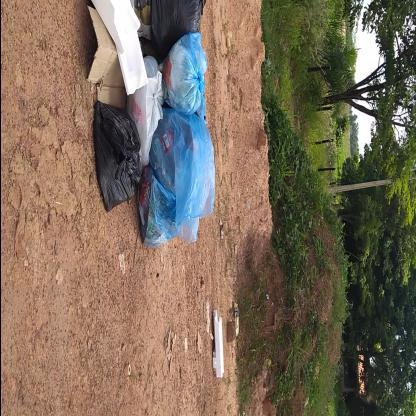lixo: (90, 0, 208, 231)
